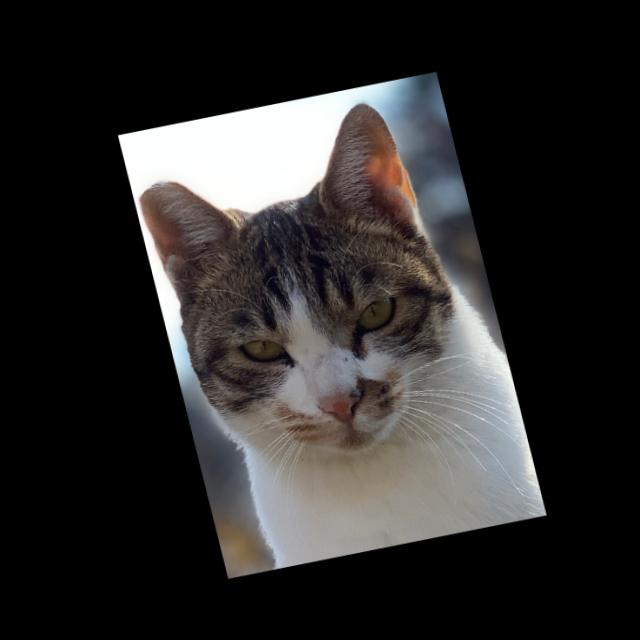animals: (118, 75, 498, 499)
